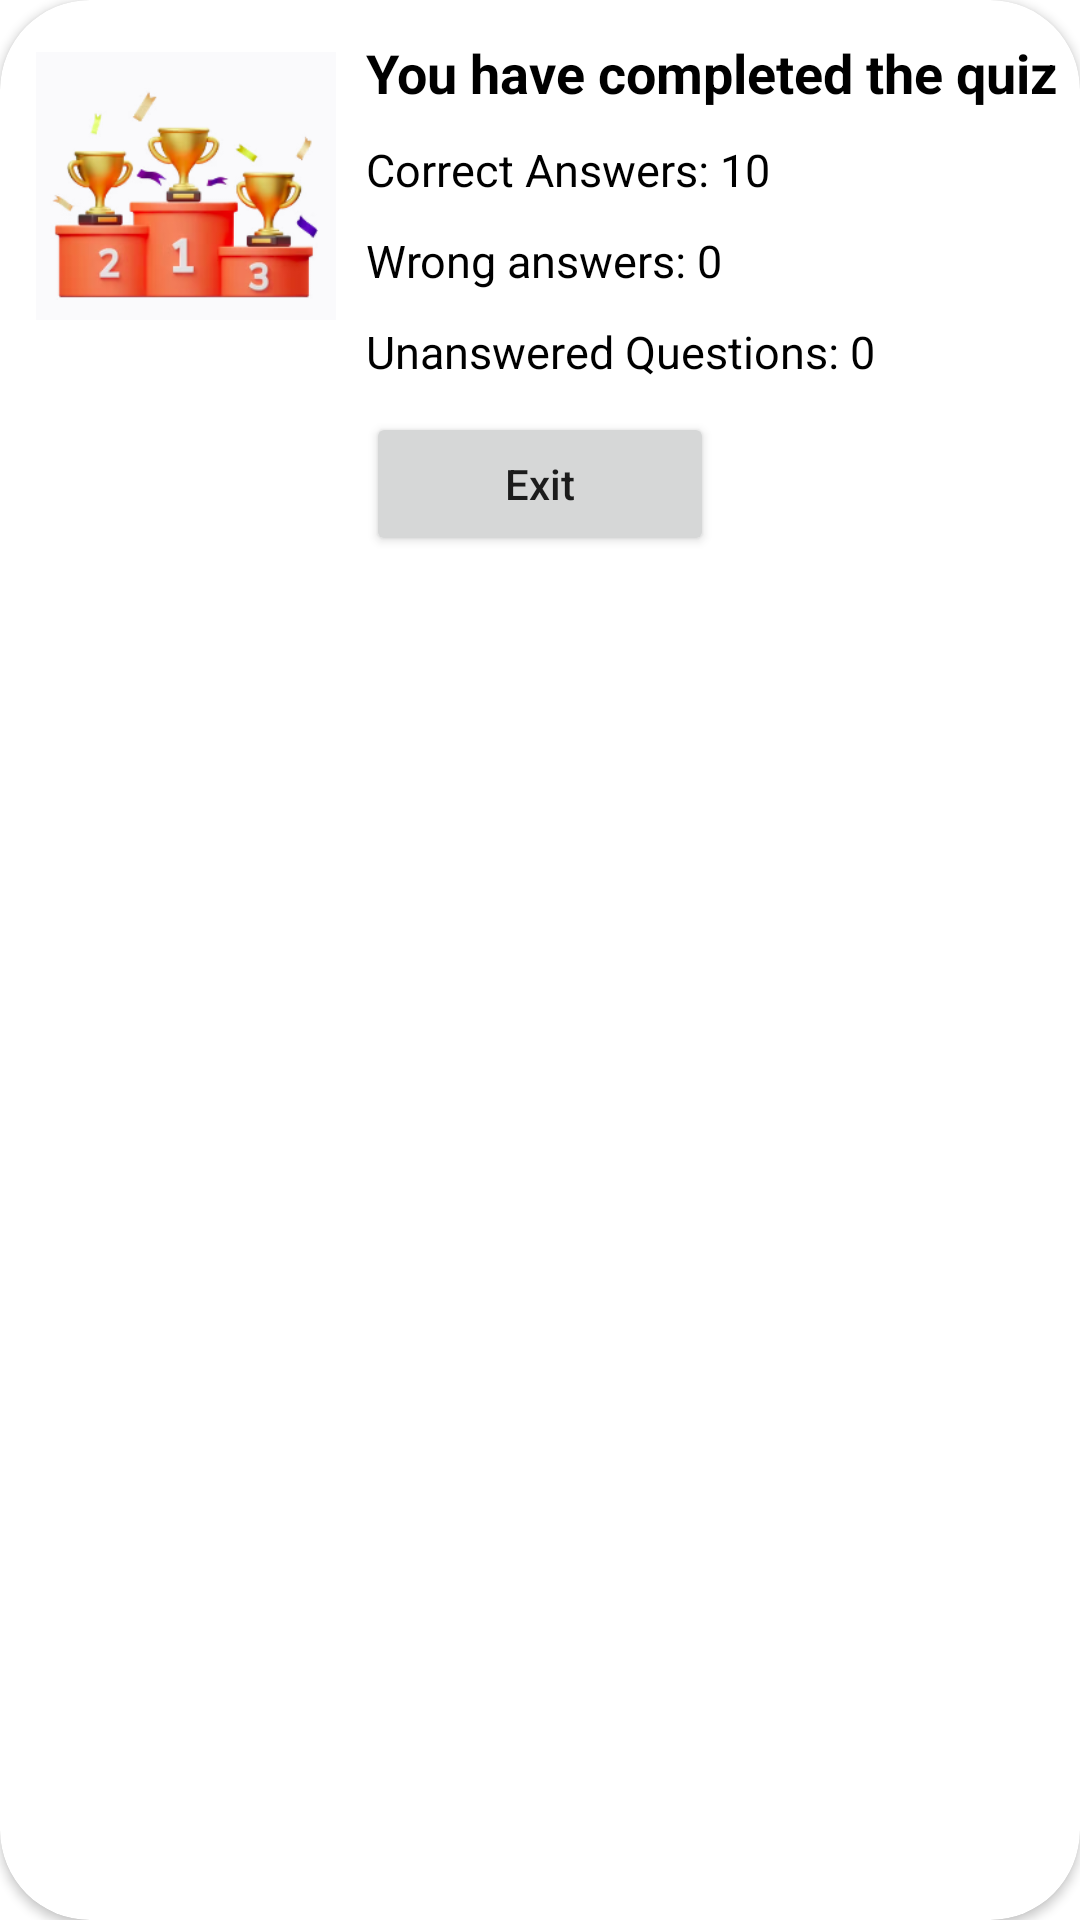

Screen size 1080x1920. Icon name, then its box in pixels as (x1, y1, x2, y2):
chempionship: (53, 92, 318, 298)
